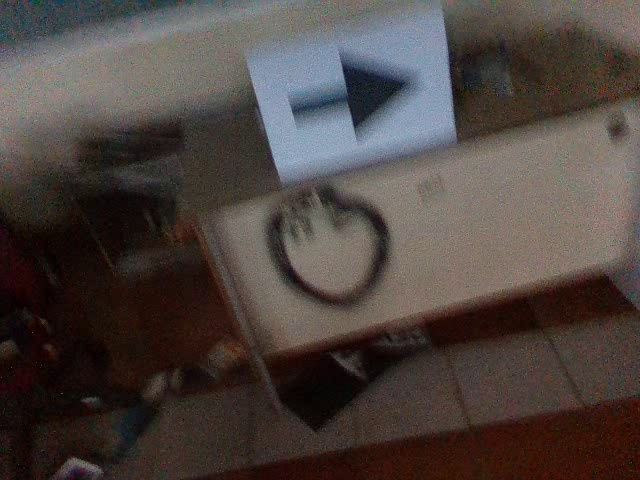Right: (279, 44, 418, 143)
